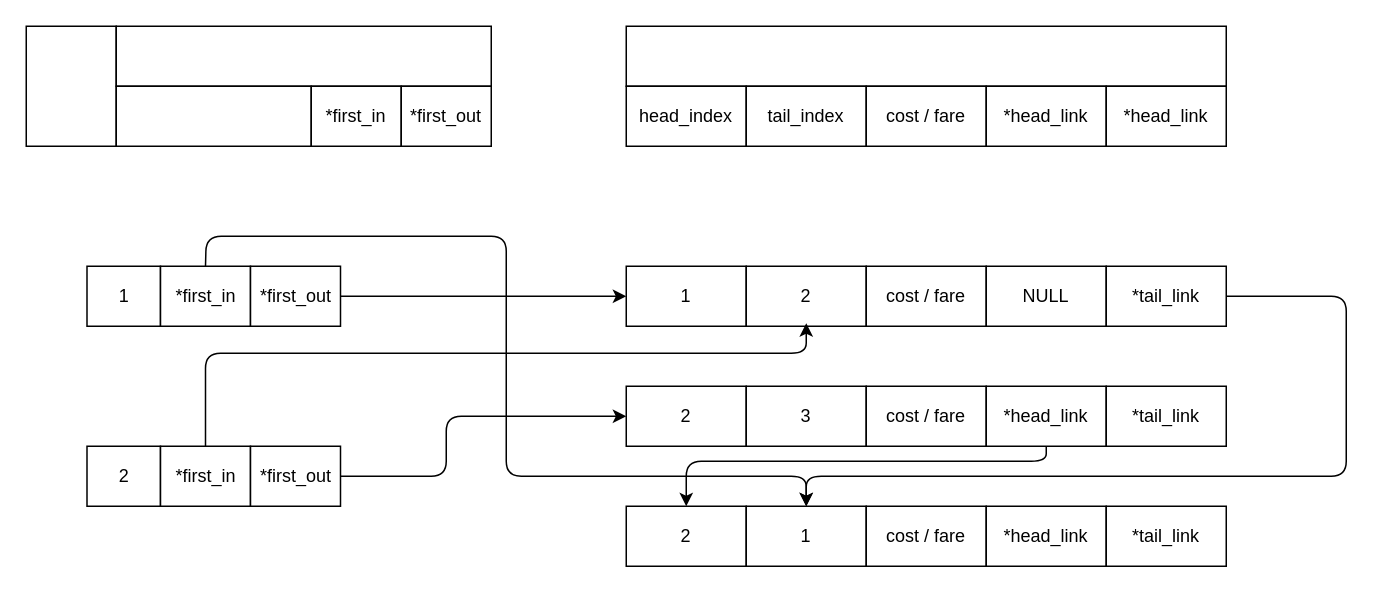
The diagram is 1385 pixels wide and 593 high, and some of its shapes have lost their labels. The shapes that lost their labels are listed below. From the top down, each one's centre as x and y in pixels, then its label:
At point 303,55: "VexNode".
At point 925,55: "ArcNode".
At point 70,85: "stop_id".
At point 213,115: "stop_id / stop_name".
